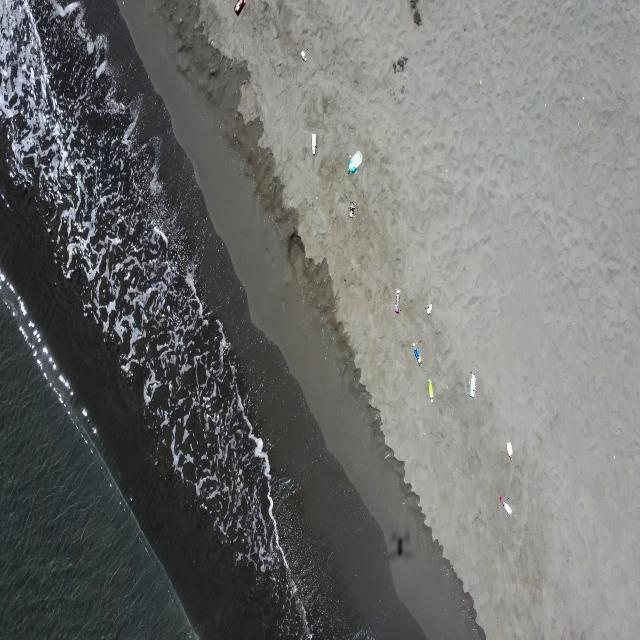plastic-bottle: (347, 150, 363, 175), (499, 494, 513, 519), (412, 341, 422, 366), (467, 372, 476, 399), (392, 289, 400, 315), (506, 439, 514, 462), (427, 379, 434, 403), (310, 132, 317, 156), (235, 0, 246, 14), (300, 48, 308, 64), (348, 201, 355, 219), (424, 302, 432, 316)
